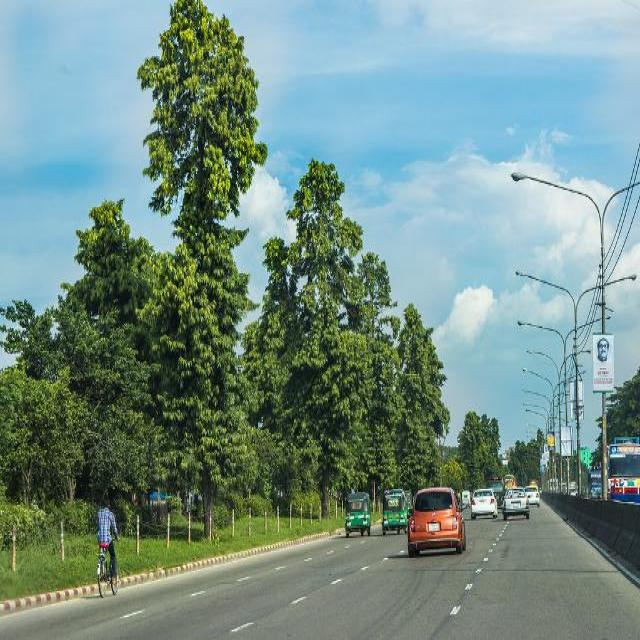bike: (94, 542, 121, 596)
vehicle: (406, 488, 466, 555), (607, 435, 640, 503), (381, 483, 409, 531), (344, 489, 370, 537), (501, 484, 532, 519), (470, 487, 498, 517), (588, 465, 603, 498), (487, 475, 506, 496), (531, 480, 542, 509)
